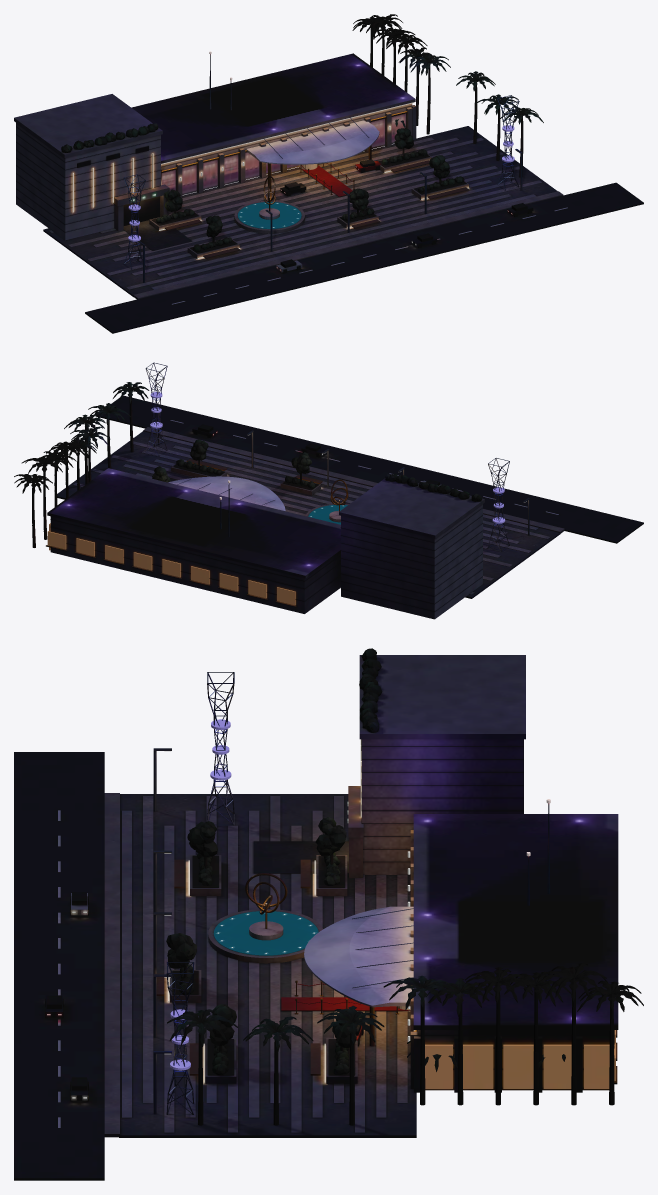
The model's file is hotel.glb.
3 views of the same model, one above another, from view 1: azimuth 30°, elevation 25°; view 2: azimuth 150°, elevation 25°; view 3: azimuth 270°, elevation 25° (orthographic). The views are drawn at different scales.
Visible parts, largest first — view 1: base; view 2: base; view 3: base.
Part boxes in pixels (box(x1,y1,x2,y2)): base: box(14, 14, 643, 333); base: box(14, 362, 643, 619); base: box(14, 648, 643, 1180).
Size of the model in its own units: 20 by 3.72 by 12.49.
5 materials, 4 textured.
